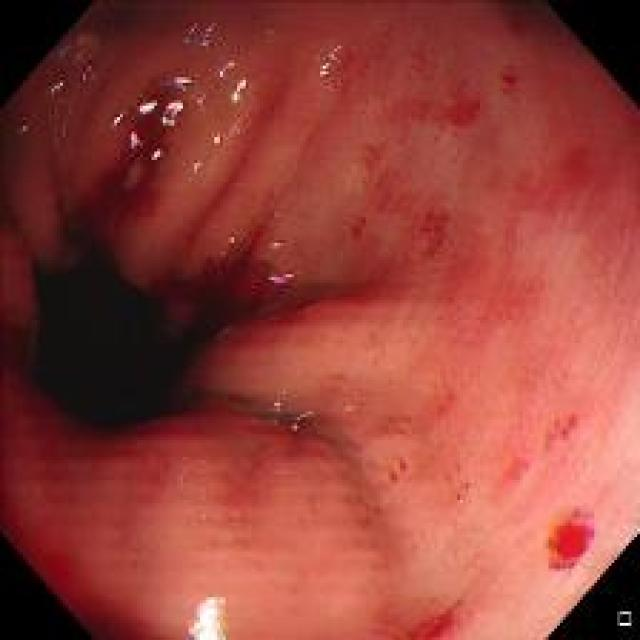blur: (105, 66, 595, 602)
color misalignment: (110, 74, 209, 176), (214, 59, 255, 150), (262, 394, 330, 439), (260, 262, 302, 286), (75, 59, 102, 90), (319, 44, 344, 72), (45, 74, 68, 98), (186, 24, 212, 42), (220, 234, 240, 255)
contrast: (31, 241, 215, 439)
specularity: (189, 596, 226, 635), (161, 100, 186, 128), (136, 100, 159, 114), (230, 79, 244, 102), (172, 76, 191, 91), (111, 108, 124, 125), (128, 128, 141, 145), (148, 149, 162, 162)
